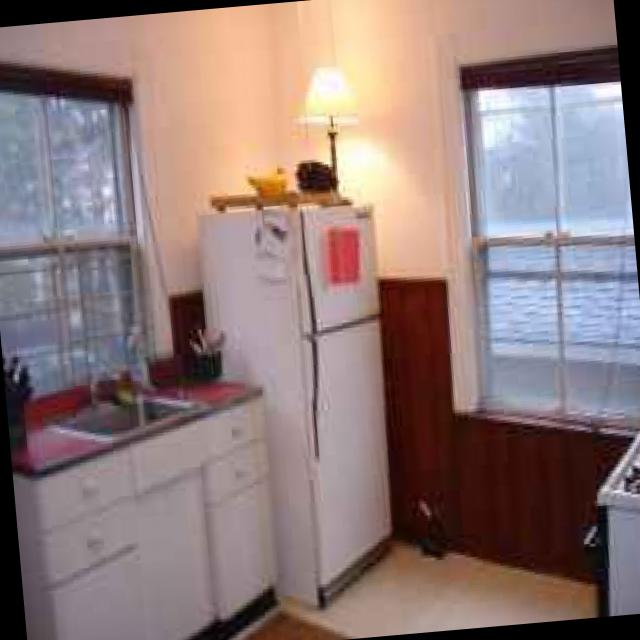2001: (467, 81, 640, 431), (0, 93, 137, 417)
2036: (10, 366, 257, 475)
cupboard crop: (14, 390, 276, 640)
curtain crop: (123, 101, 169, 360)
floor -X: (92, 538, 640, 640)
fridge crop: (197, 200, 389, 610)
lamp crop: (296, 62, 358, 197)
sink basin: (53, 393, 203, 440)
stove hood: (594, 432, 640, 614)
wall clock: (275, 0, 640, 594), (0, 3, 311, 640)
